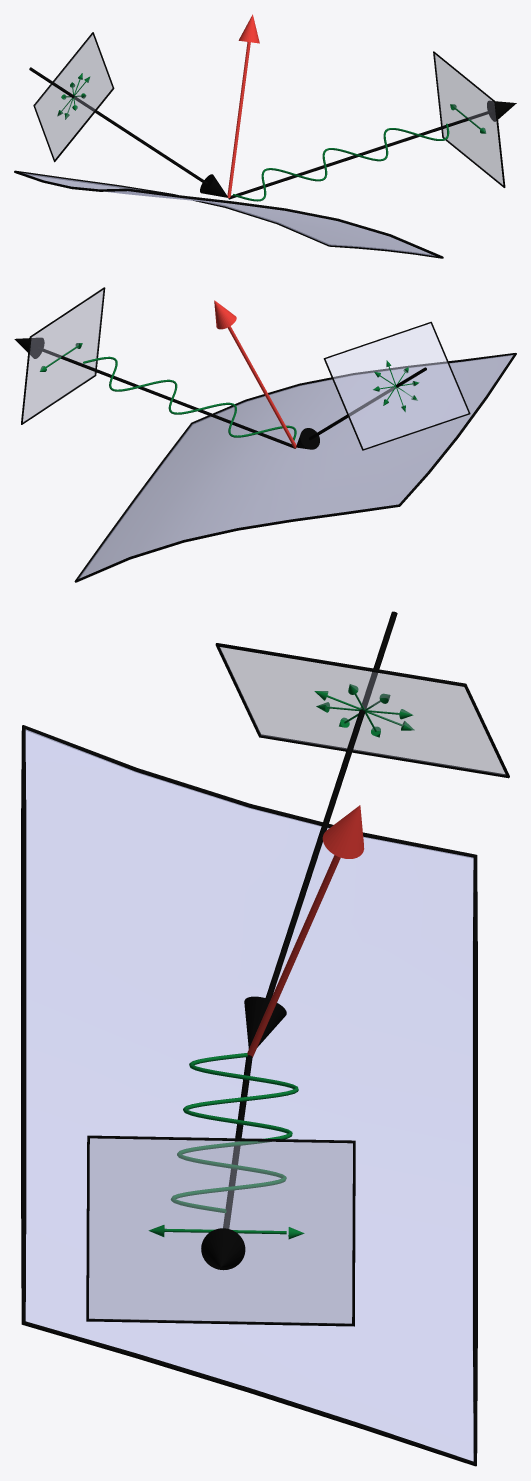
Rendered from polarization_geometry.fbx.
3 views of the same model, one above another, from view 1: azimuth 30°, elevation 25°; view 2: azimuth 150°, elevation 25°; view 3: azimuth 270°, elevation 25° (orthographic). The views are drawn at different scales.
Visible parts, largest first — view 1: reflected_polarization_plane, incident_polarization_plane, top_surface, top_surface_ink_boundary, reflected_ray_shaft, reflected_linear_wave, incident_ray_shaft, reflected_polarization_plane_ink_boundary, incident_polarization_plane_ink_boundary, top_normal_vector_shaft, incident_ray_head, reflected_ray_head (+1 smaller); view 2: top_surface, incident_polarization_plane, reflected_polarization_plane, top_surface_ink_boundary, reflected_ray_shaft, reflected_linear_wave, incident_polarization_plane_ink_boundary, reflected_polarization_plane_ink_boundary, top_normal_vector_shaft, incident_ray_shaft, top_normal_vector_head, reflected_ray_head (+1 smaller); view 3: top_surface, reflected_polarization_plane, incident_polarization_plane, top_surface_ink_boundary, reflected_linear_wave, reflected_polarization_plane_ink_boundary, incident_polarization_plane_ink_boundary, incident_ray_shaft, top_normal_vector_shaft, top_normal_vector_head, reflected_ray_head, incident_ray_head (+1 smaller).
Boxes of the visible parts, x1=… form: reflected_polarization_plane: x1=434, y1=54, x2=503, y2=184; incident_polarization_plane: x1=35, y1=34, x2=112, y2=159; top_surface: x1=23, y1=173, x2=435, y2=256; top_surface_ink_boundary: x1=14, y1=170, x2=443, y2=258; reflected_ray_shaft: x1=228, y1=110, x2=492, y2=199; reflected_linear_wave: x1=233, y1=123, x2=449, y2=201; incident_ray_shaft: x1=29, y1=67, x2=207, y2=184; reflected_polarization_plane_ink_boundary: x1=433, y1=51, x2=505, y2=187; incident_polarization_plane_ink_boundary: x1=33, y1=32, x2=114, y2=162; top_normal_vector_shaft: x1=227, y1=42, x2=250, y2=197; incident_ray_head: x1=200, y1=174, x2=227, y2=197; reflected_ray_head: x1=487, y1=100, x2=516, y2=121; top_surface: x1=78, y1=354, x2=513, y2=578; incident_polarization_plane: x1=326, y1=323, x2=468, y2=448; reflected_polarization_plane: x1=23, y1=289, x2=103, y2=422; top_surface_ink_boundary: x1=74, y1=353, x2=516, y2=582; reflected_ray_shaft: x1=37, y1=347, x2=295, y2=448; reflected_linear_wave: x1=83, y1=356, x2=296, y2=440; incident_polarization_plane_ink_boundary: x1=323, y1=321, x2=470, y2=450; reflected_polarization_plane_ink_boundary: x1=21, y1=287, x2=105, y2=424; top_normal_vector_shaft: x1=228, y1=326, x2=296, y2=448; incident_ray_shaft: x1=309, y1=367, x2=426, y2=440; top_normal_vector_head: x1=214, y1=300, x2=236, y2=329; reflected_ray_head: x1=14, y1=337, x2=44, y2=358; top_surface: x1=25, y1=729, x2=473, y2=1461; reflected_polarization_plane: x1=89, y1=1138, x2=352, y2=1323; incident_polarization_plane: x1=219, y1=647, x2=505, y2=775; top_surface_ink_boundary: x1=21, y1=725, x2=477, y2=1466; reflected_linear_wave: x1=171, y1=1053, x2=298, y2=1212; reflected_polarization_plane_ink_boundary: x1=86, y1=1135, x2=355, y2=1326; incident_polarization_plane_ink_boundary: x1=215, y1=643, x2=509, y2=778; incident_ray_shaft: x1=265, y1=611, x2=397, y2=999; top_normal_vector_shaft: x1=247, y1=855, x2=340, y2=1057; top_normal_vector_head: x1=322, y1=805, x2=364, y2=858; reflected_ray_head: x1=201, y1=1228, x2=245, y2=1270; incident_ray_head: x1=244, y1=996, x2=286, y2=1048.
Bounding box in the file's own units: 260 × 153 × 121.
